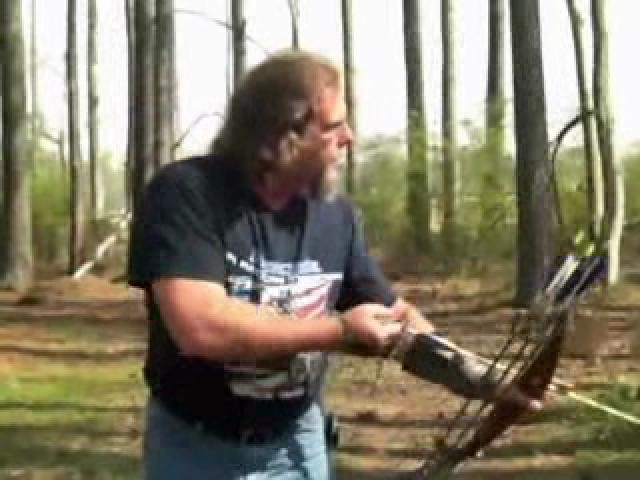I: (124, 33, 565, 438)
